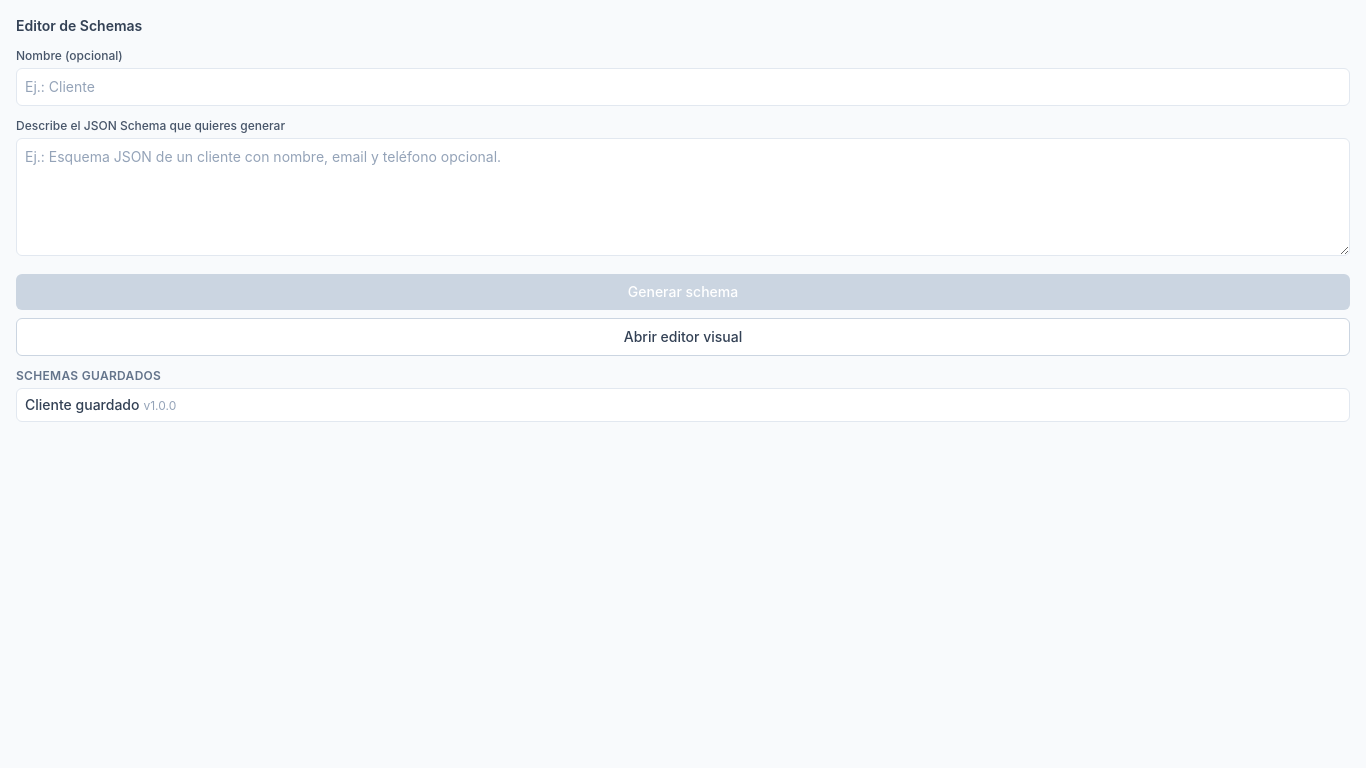
Test: DeveloperSchemaPanel › muestra el bloque de versiones y sugiere la siguiente versión al seleccionar un schema
This screenshot has width=1366, height=768.
What coordinates should you click on to do the following:
click the button "Cliente guardado"
I would click on:
 (82, 404)
Its box is [16,388,1350,422].
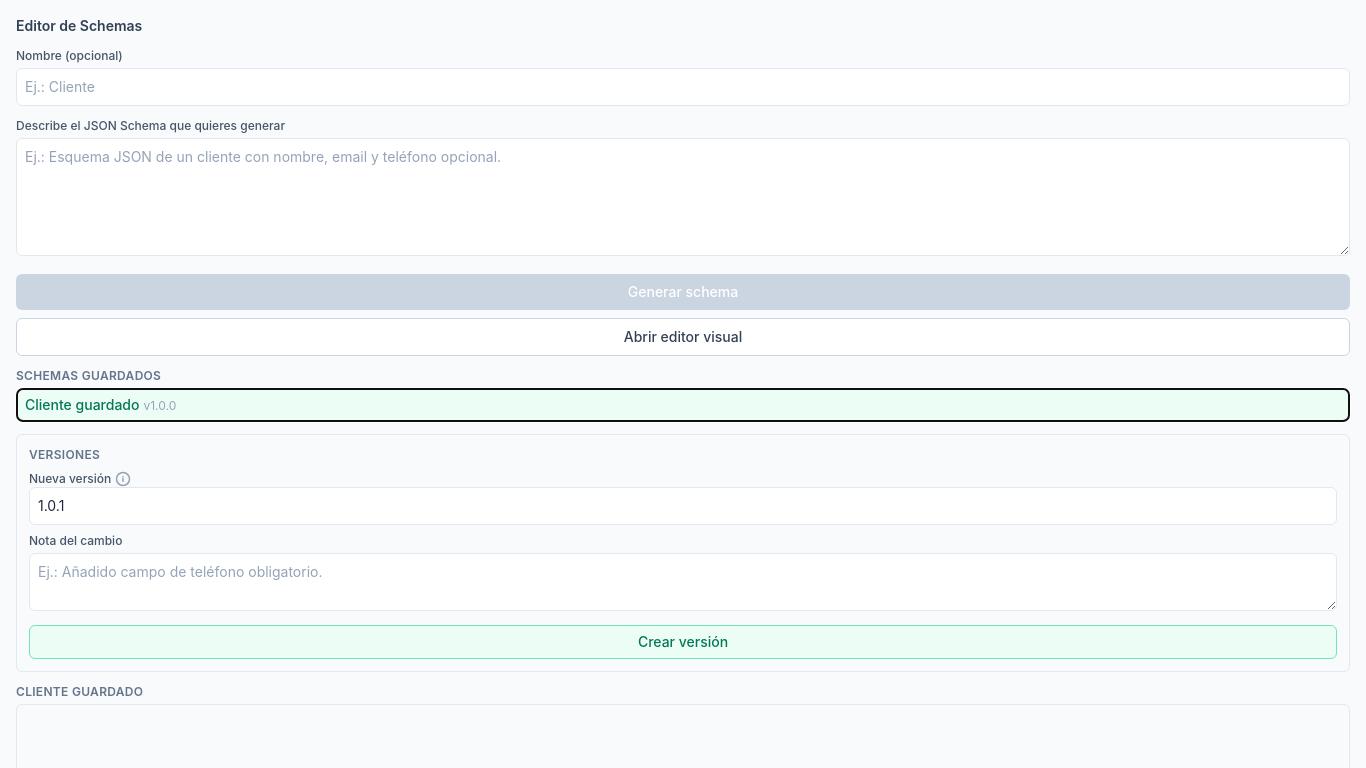
Expected: the heading "Versiones" is shown, [29,447,100,462]
Expected: the field labelled "Nueva versión" holds "1.0.1", [29,487,1337,525]
Expected: the button "Crear versión" is shown, [29,625,1337,659]
